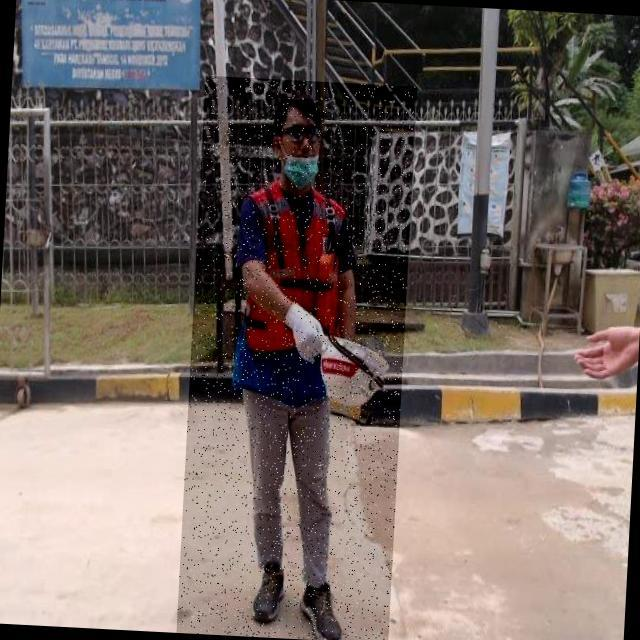Human: (176, 76, 417, 640)
Safety Boot: (295, 579, 348, 640), (244, 560, 289, 626)
Safety Vest: (229, 181, 352, 412)
